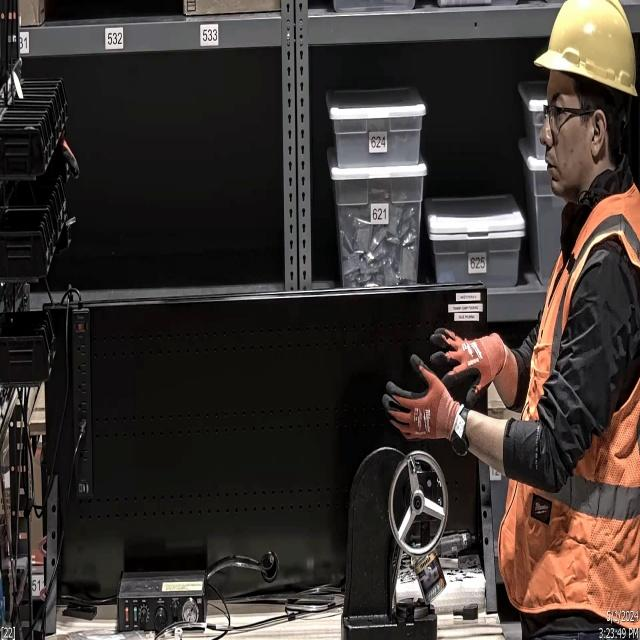gloves: (375, 354, 455, 445)
